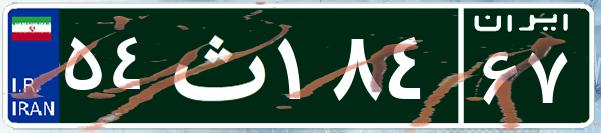1: (273, 28, 330, 110)
4: (385, 28, 445, 110), (110, 28, 158, 105)
5: (57, 26, 110, 107)
6: (475, 38, 525, 113)
7: (525, 38, 570, 115)
8: (330, 28, 385, 110)
ث: (158, 15, 273, 115)
